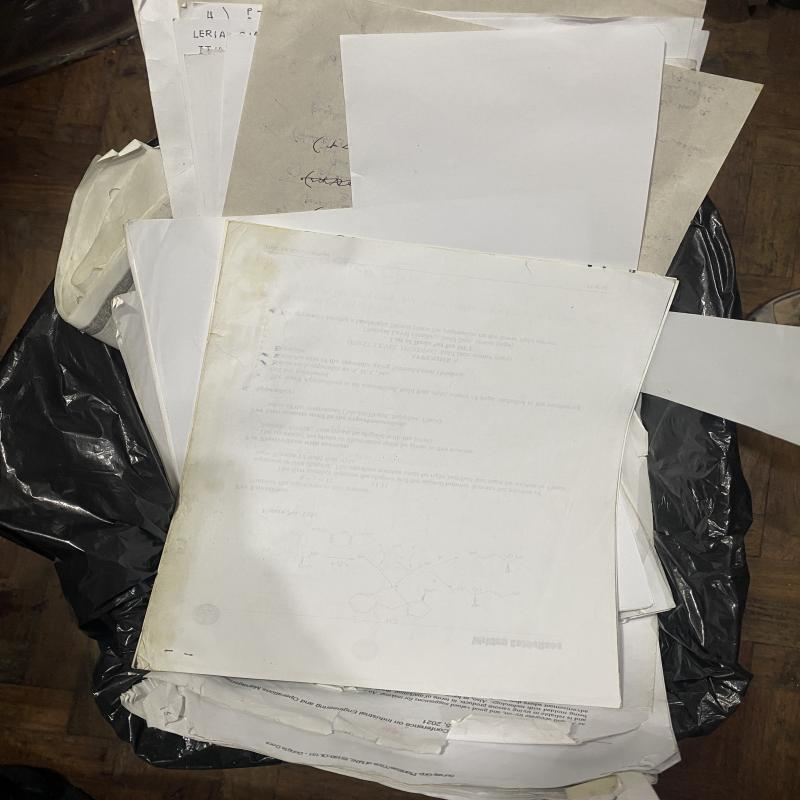paper: (135, 221, 678, 711), (133, 0, 762, 274), (118, 617, 682, 800), (339, 26, 665, 271), (54, 139, 173, 350), (642, 312, 800, 447), (615, 413, 675, 621)
